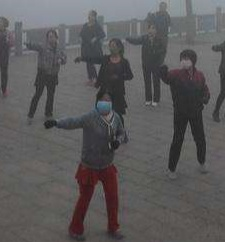person: (43, 92, 131, 242), (151, 49, 210, 179), (76, 37, 128, 118), (25, 29, 68, 123), (125, 24, 169, 108), (80, 10, 106, 86), (209, 41, 225, 124), (1, 16, 14, 98), (146, 1, 171, 36)
